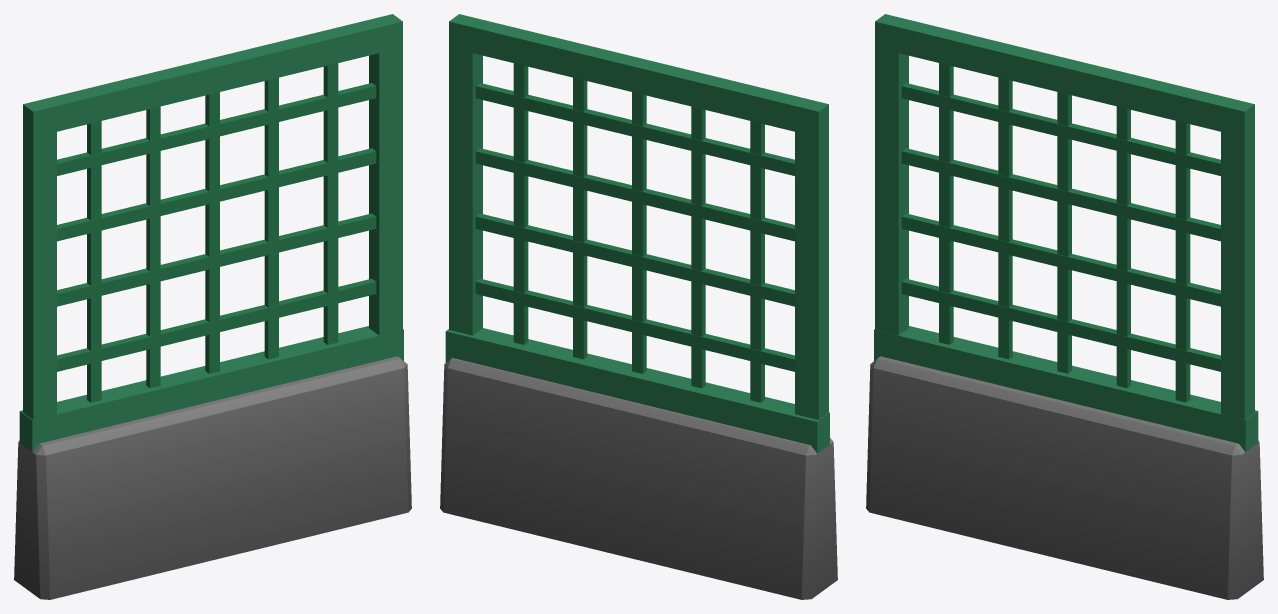
Rendered from Fence_1_B_5.fbx.
3 views of the same model, side by side, from view 1: azimuth 30°, elevation 25°; view 2: azimuth 150°, elevation 25°; view 3: azimuth 330°, elevation 25° (orthographic).
Visible parts, largest first — view 1: Fence_1_B_5; view 2: Fence_1_B_5; view 3: Fence_1_B_5.
Part boxes in pixels (x1,y1,x2,y2): Fence_1_B_5: (14,14,411,599); Fence_1_B_5: (440,14,837,599); Fence_1_B_5: (866,14,1263,599).
Bounding box in the file's own units: 200 × 248 × 30.52.
